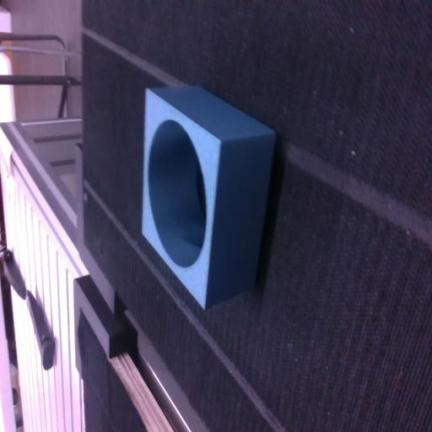square: (142, 86, 274, 308)
